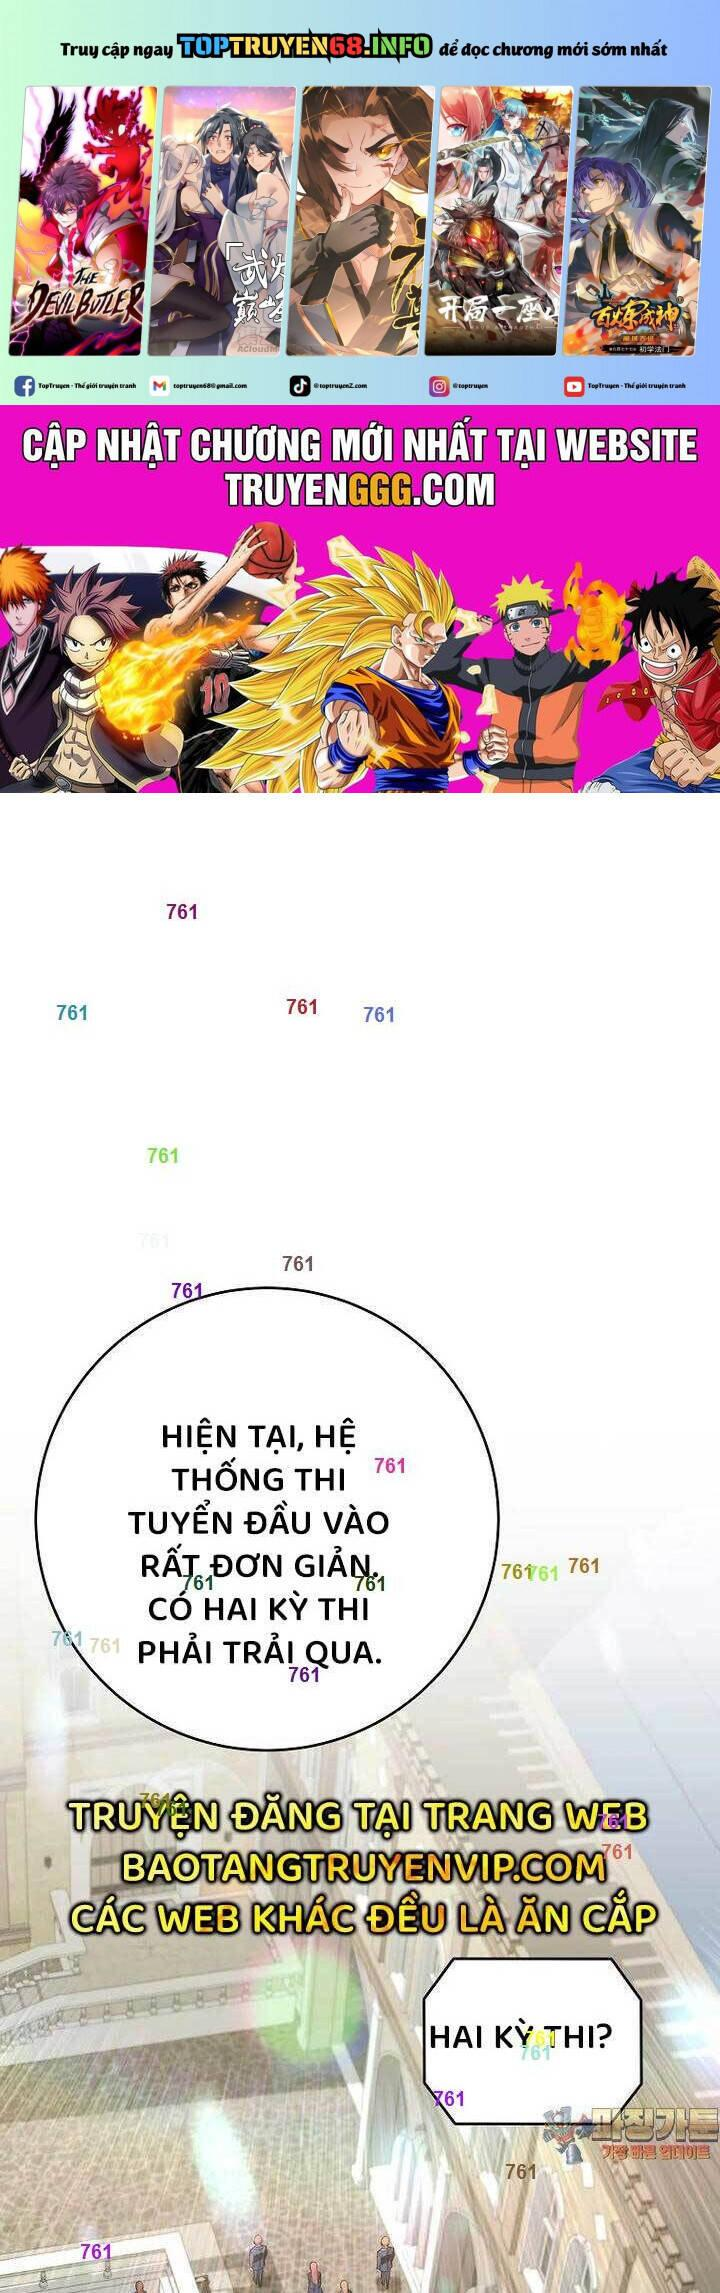quangcao: (0, 0, 720, 793), (63, 1783, 657, 1941)
